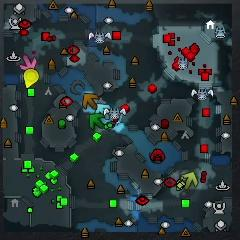p4: (24, 69, 39, 89)
x1: (20, 55, 37, 72)
x2: (182, 173, 198, 190)
x3: (96, 104, 110, 114)
x4: (90, 113, 104, 129)
x5: (83, 93, 98, 110)
